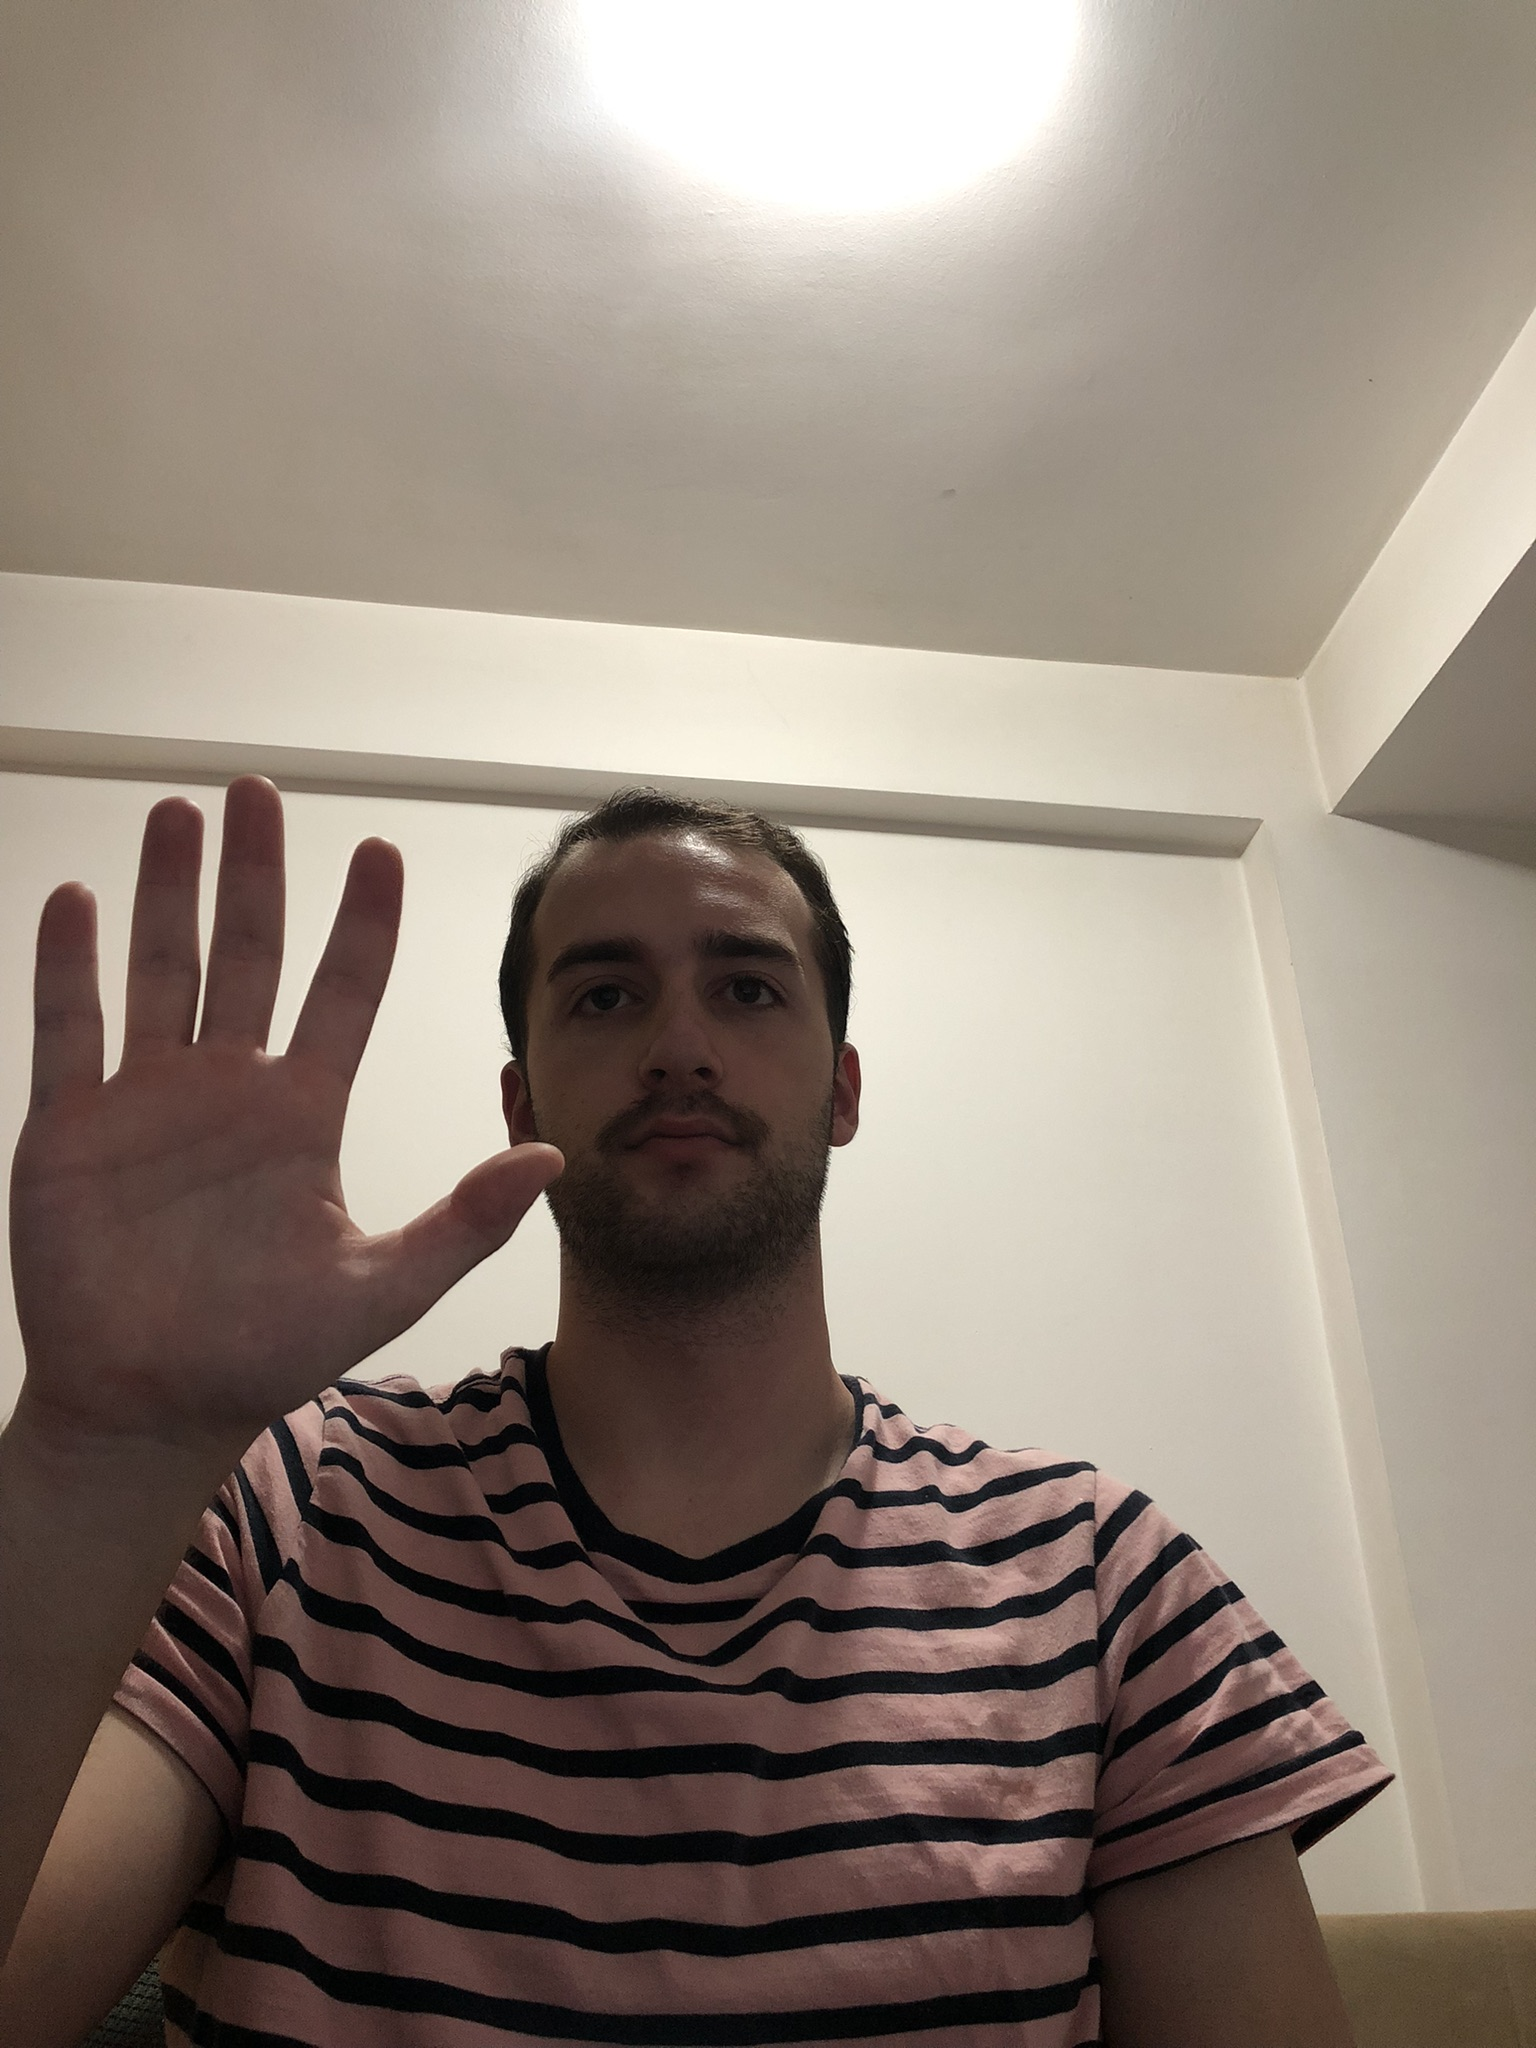Hello: (2, 756, 573, 1467)
